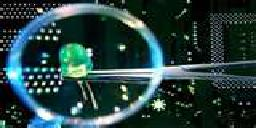LED: (58, 41, 97, 110)
